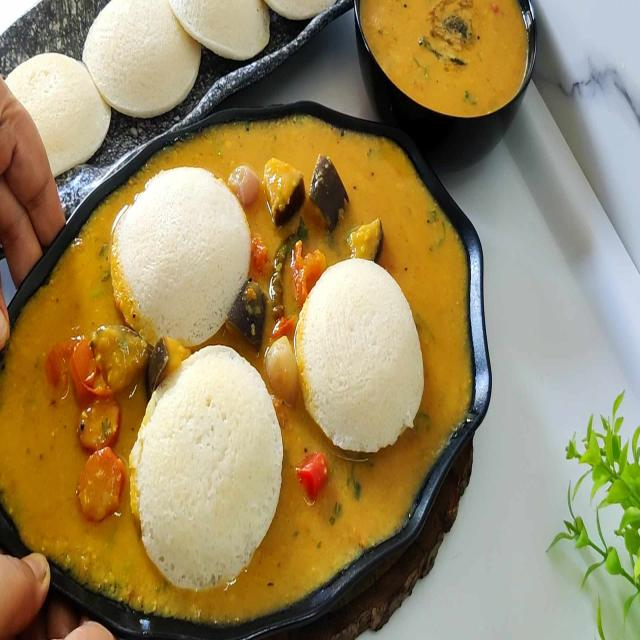idli: (131, 354, 284, 592), (299, 257, 426, 455), (114, 174, 252, 342), (75, 2, 205, 115), (0, 44, 116, 135), (167, 0, 276, 62), (260, 0, 339, 25)
